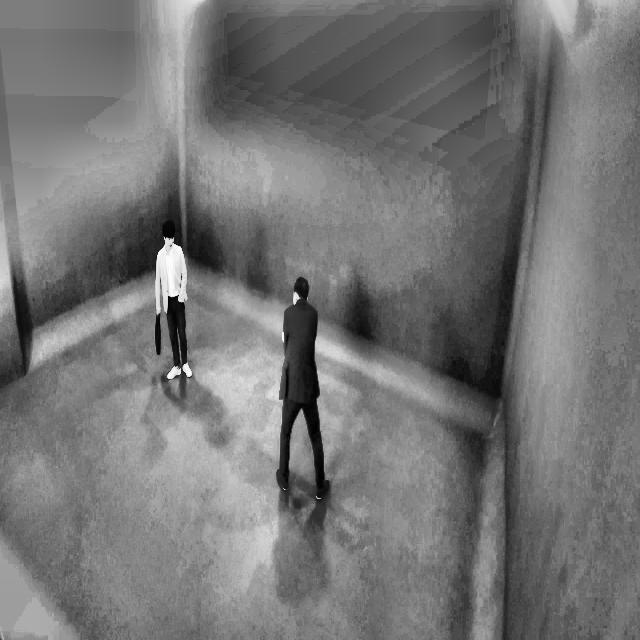assult: (153, 164, 377, 567), (271, 249, 350, 520)
